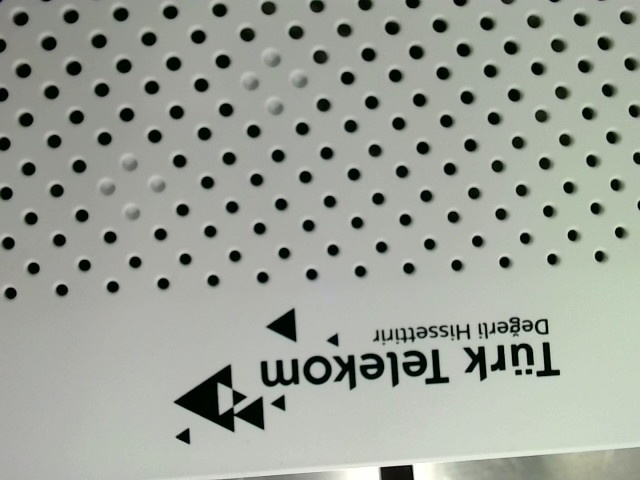AQ_TURKTelekom: (170, 300, 566, 448)
